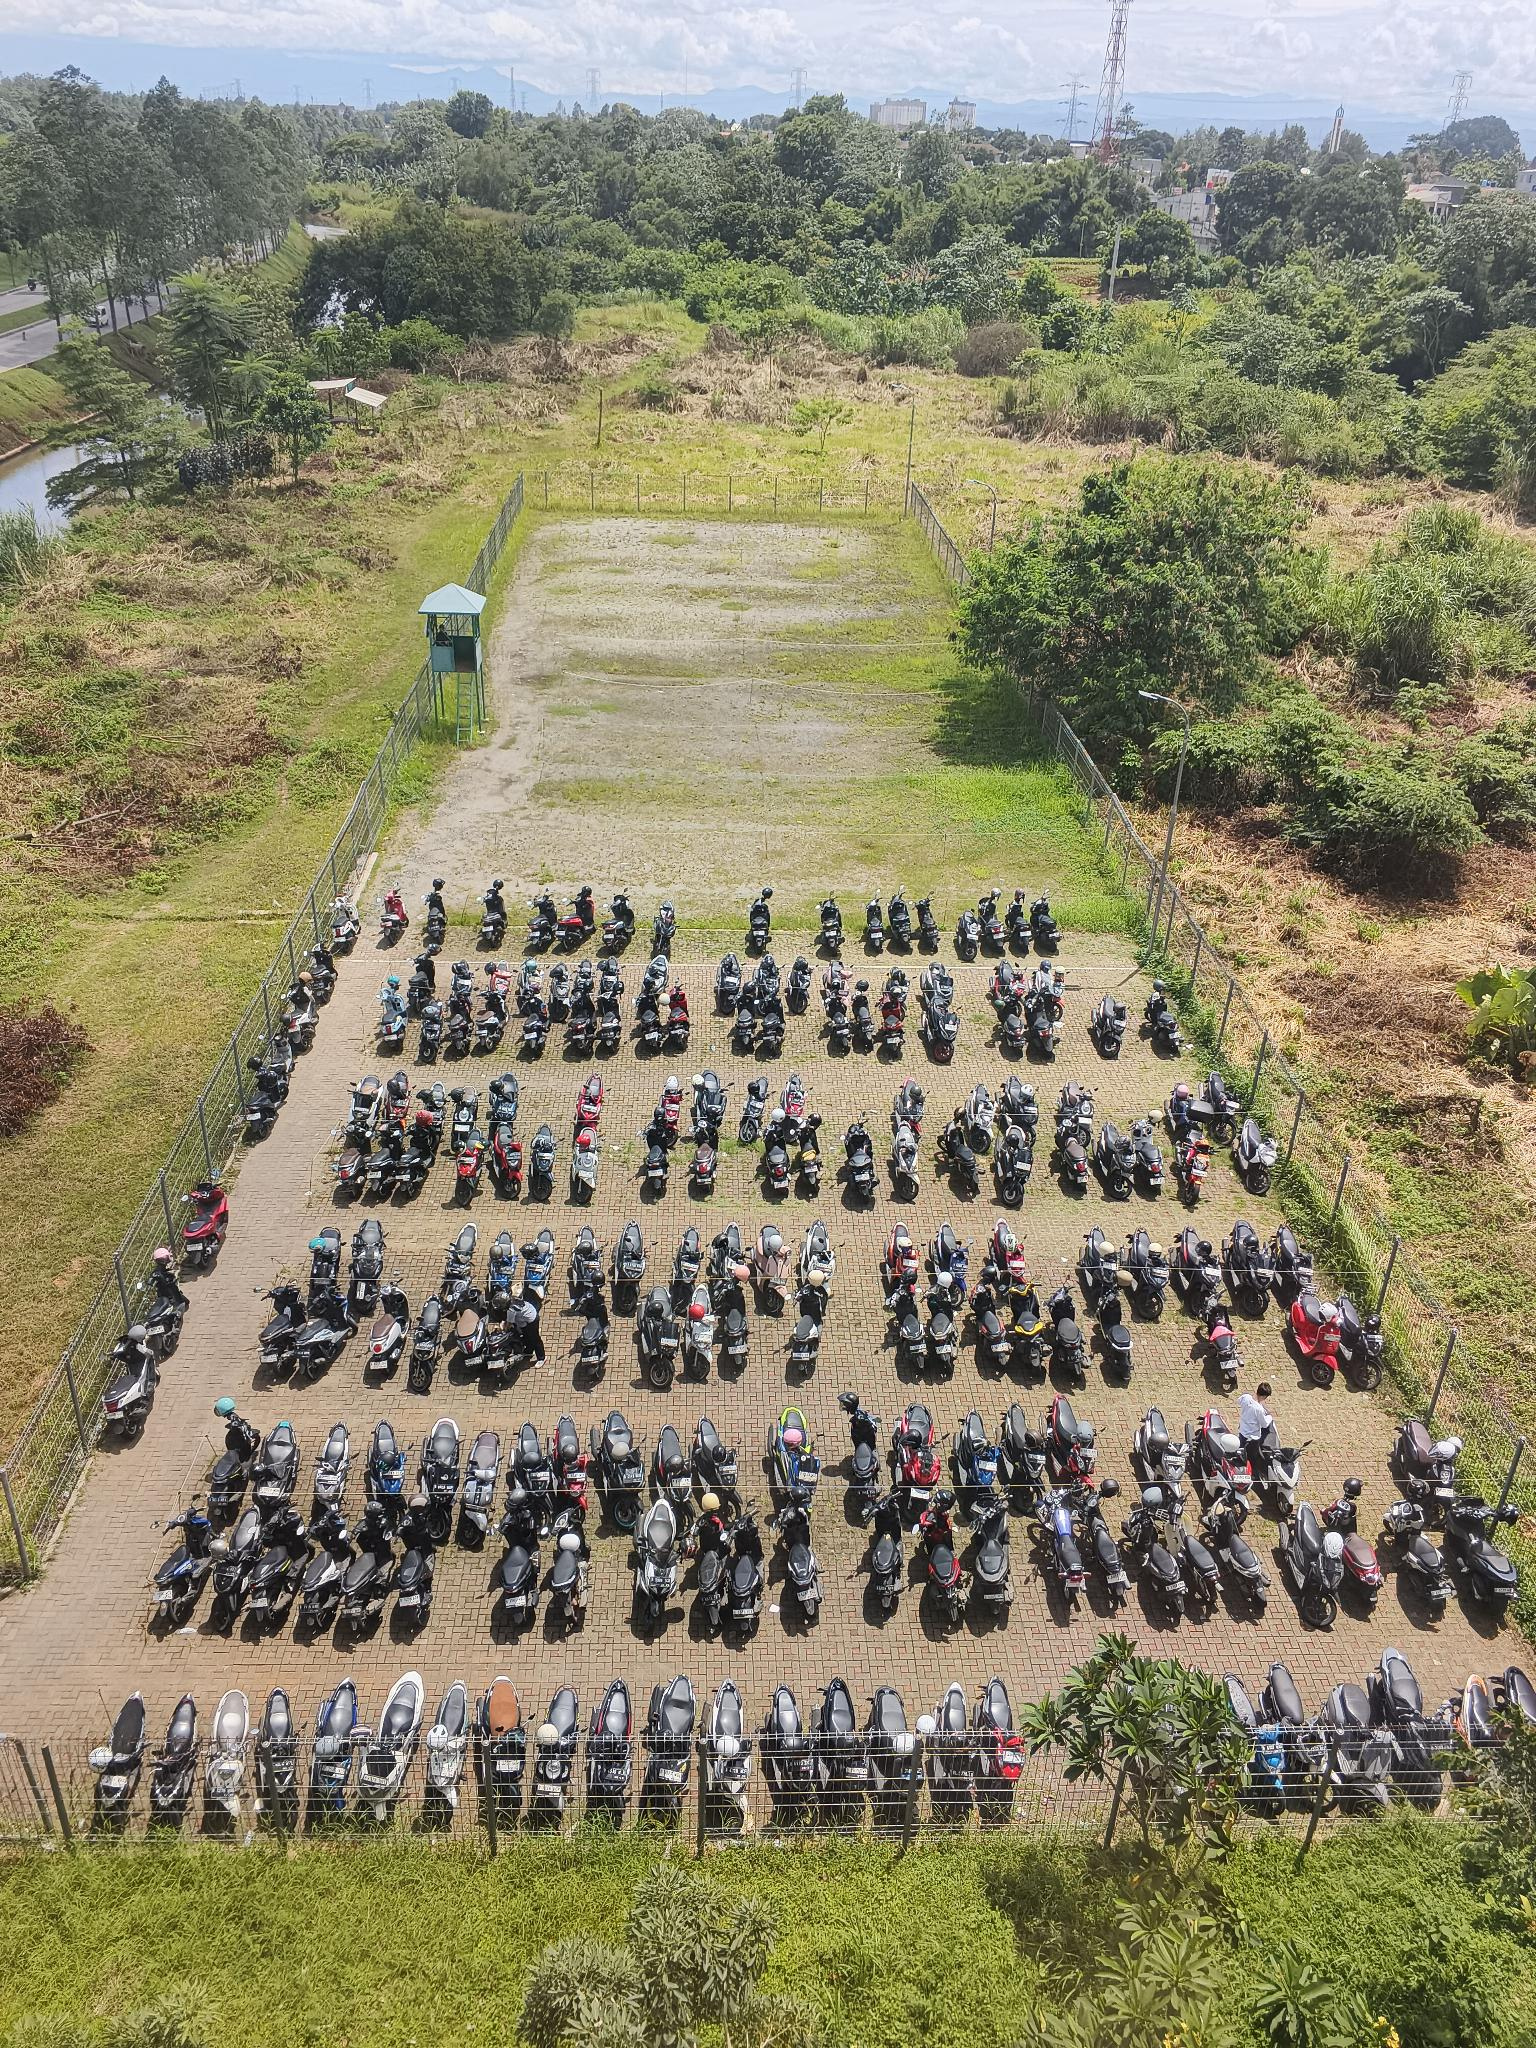motor: (1370, 1643, 1455, 1804), (1258, 1661, 1342, 1809), (353, 1669, 424, 1832), (1213, 1666, 1289, 1816), (1317, 1672, 1396, 1816), (758, 1680, 824, 1840), (699, 1675, 760, 1842), (870, 1679, 931, 1838), (1379, 1492, 1455, 1617), (815, 1677, 876, 1830), (471, 1671, 529, 1830), (971, 1679, 1033, 1829), (92, 1690, 152, 1843), (641, 1669, 695, 1834), (1275, 1503, 1346, 1629), (532, 1669, 587, 1829), (1202, 1490, 1273, 1613), (587, 1671, 641, 1834), (197, 1685, 253, 1837), (768, 1487, 829, 1624), (1446, 1496, 1517, 1613), (1321, 1480, 1386, 1605), (925, 1680, 978, 1830), (150, 1506, 218, 1622), (1187, 1405, 1250, 1526), (255, 1685, 305, 1837), (426, 1666, 471, 1834), (632, 1501, 687, 1638), (1389, 1414, 1459, 1522), (311, 1674, 358, 1834), (765, 1405, 823, 1529), (1033, 1487, 1091, 1611), (1162, 1495, 1226, 1606), (965, 1488, 1020, 1619), (913, 1490, 968, 1621), (1075, 1492, 1136, 1608), (152, 1692, 200, 1837), (1129, 1403, 1191, 1517), (592, 1406, 647, 1534), (833, 1392, 887, 1516), (210, 1503, 261, 1634), (1046, 1393, 1100, 1516), (494, 1500, 544, 1630), (1121, 1509, 1184, 1613), (720, 1501, 768, 1635), (858, 1492, 912, 1613), (692, 1413, 747, 1529), (949, 1403, 1004, 1519), (207, 1398, 260, 1517), (103, 1335, 163, 1440), (1333, 1290, 1391, 1397), (250, 1511, 305, 1622), (1284, 1287, 1344, 1388), (652, 1413, 700, 1537), (889, 1401, 941, 1517), (507, 1421, 558, 1535), (345, 1509, 392, 1635), (303, 1509, 350, 1635), (549, 1505, 595, 1629), (419, 1416, 465, 1543), (550, 1413, 595, 1537), (394, 1503, 439, 1627), (139, 1250, 192, 1351), (687, 1506, 731, 1630), (1123, 1216, 1173, 1324), (1000, 1403, 1047, 1517), (1221, 1218, 1273, 1316), (182, 1169, 232, 1269), (1199, 1288, 1249, 1388), (1175, 1218, 1223, 1319), (636, 1276, 679, 1388), (937, 1105, 987, 1201), (298, 1292, 353, 1379), (253, 1279, 302, 1377), (360, 1416, 408, 1514), (308, 1416, 355, 1517), (440, 1274, 492, 1366), (573, 1271, 615, 1384), (461, 1429, 502, 1545), (713, 1271, 758, 1374), (260, 1417, 305, 1521), (1454, 1659, 1501, 1758), (1007, 1280, 1054, 1374), (1270, 1216, 1315, 1311), (1125, 1105, 1173, 1193), (752, 1221, 795, 1317), (1076, 1219, 1123, 1308), (839, 1111, 883, 1206), (1047, 1284, 1089, 1382), (368, 1282, 411, 1376), (632, 1106, 676, 1198), (797, 1219, 841, 1311), (994, 1118, 1037, 1208), (670, 1218, 710, 1314), (679, 1282, 718, 1382), (966, 1276, 1008, 1367), (1097, 1288, 1137, 1384), (928, 1214, 970, 1305), (878, 1218, 925, 1298), (1052, 1072, 1100, 1150), (245, 1056, 290, 1138), (408, 1295, 445, 1395), (755, 1108, 795, 1200), (610, 1221, 650, 1313), (889, 1279, 929, 1371), (794, 1280, 831, 1377), (1144, 977, 1187, 1059), (450, 1118, 490, 1206), (689, 1066, 734, 1145), (984, 1218, 1029, 1297), (1092, 1121, 1136, 1201), (1052, 1108, 1092, 1195), (926, 1282, 963, 1376), (332, 1114, 373, 1200), (997, 1072, 1041, 1151), (710, 1221, 752, 1301), (1175, 1121, 1213, 1208), (279, 971, 319, 1053), (1200, 1068, 1242, 1147), (1238, 1116, 1279, 1195), (792, 1113, 831, 1198), (440, 1218, 479, 1303), (487, 1116, 526, 1200), (523, 1116, 560, 1203), (521, 1222, 558, 1309), (397, 1118, 437, 1197), (568, 1224, 607, 1306), (984, 956, 1031, 1022), (352, 1216, 386, 1306), (308, 1219, 344, 1305), (1087, 992, 1131, 1061), (650, 1074, 691, 1148), (687, 1111, 723, 1195), (486, 1224, 521, 1308), (960, 1082, 999, 1158), (891, 1121, 926, 1203), (570, 1126, 605, 1208), (486, 1071, 528, 1140), (658, 977, 697, 1051), (373, 976, 410, 1053), (344, 1071, 386, 1138), (1025, 992, 1063, 1064), (894, 1072, 933, 1143), (741, 1071, 774, 1151), (369, 1114, 403, 1195), (557, 885, 599, 950), (302, 932, 339, 1005), (631, 982, 668, 1055), (923, 995, 962, 1064), (1496, 1658, 1536, 1724), (516, 985, 552, 1059), (474, 982, 511, 1053), (1028, 884, 1065, 955), (403, 945, 440, 1014), (571, 1072, 608, 1142), (778, 1069, 812, 1145), (1029, 956, 1070, 1019), (476, 879, 511, 950), (816, 989, 854, 1056), (523, 885, 560, 951), (328, 889, 363, 956), (873, 987, 908, 1055), (592, 984, 626, 1055), (975, 885, 1008, 956), (382, 1064, 418, 1132), (989, 990, 1026, 1055), (847, 979, 879, 1051), (565, 984, 597, 1056), (450, 1079, 481, 1155), (602, 889, 636, 956), (813, 889, 847, 956), (728, 982, 760, 1053), (910, 890, 945, 955), (757, 985, 787, 1059), (442, 989, 474, 1058), (376, 882, 410, 947), (750, 953, 786, 1014), (860, 885, 891, 956), (1005, 884, 1036, 955), (419, 879, 452, 945), (416, 997, 447, 1066), (918, 961, 957, 1016), (879, 963, 915, 1022), (887, 884, 918, 951), (820, 958, 855, 1016), (712, 951, 744, 1014), (786, 953, 816, 1018), (636, 955, 671, 1009), (745, 889, 776, 951), (418, 1079, 449, 1140), (449, 955, 478, 1016), (261, 1032, 297, 1079), (481, 959, 515, 1008), (597, 955, 626, 1011), (954, 903, 981, 963), (549, 959, 574, 1022), (653, 898, 678, 964), (516, 956, 545, 1011), (573, 955, 599, 1013)
